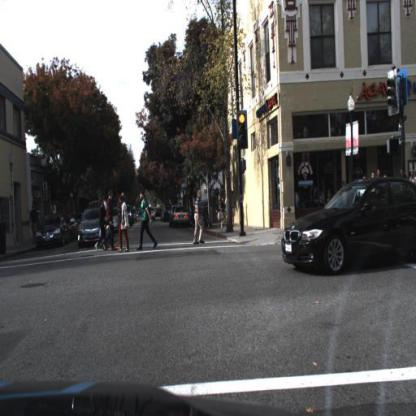car: (283, 178, 416, 273), (79, 205, 112, 254), (35, 210, 69, 253), (171, 204, 194, 231), (164, 206, 171, 224)
pedestrian: (137, 191, 153, 252), (118, 198, 133, 253), (97, 197, 108, 257), (97, 200, 109, 254), (194, 189, 205, 245), (96, 201, 107, 254), (28, 203, 40, 246), (107, 191, 115, 254), (99, 200, 108, 251), (99, 199, 106, 253), (216, 194, 225, 231), (31, 206, 39, 240), (408, 167, 416, 188), (400, 168, 406, 187), (382, 170, 389, 185), (370, 171, 377, 185), (409, 171, 416, 185), (378, 169, 383, 185), (377, 167, 382, 181)
trafficLight: (237, 110, 249, 148)
